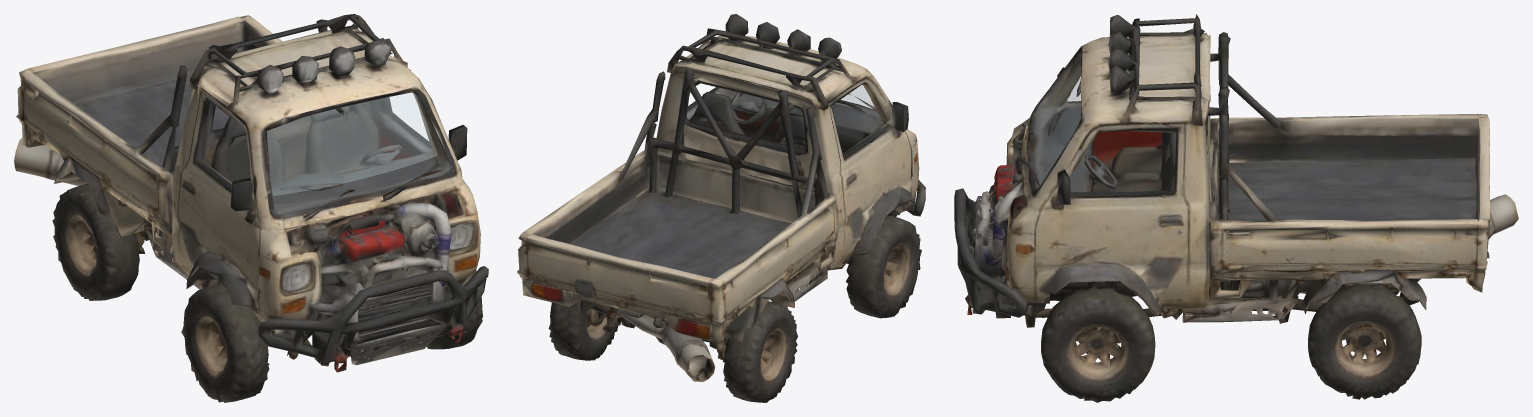
File: kei_truck_repaired.glb
3 views of the same model, side by side, from view 1: azimuth 30°, elevation 25°; view 2: azimuth 150°, elevation 25°; view 3: azimuth 270°, elevation 25° (orthographic). The views are drawn at different scales.
Parts seen in each view (by area): view 1: body, windshield, tailgate, wheel_fr, door_r, wheel_rr, door_l, wheel_fl; view 2: body, tailgate, door_r, wheel_fr, wheel_rr, wheel_rl, windshield; view 3: body, door_l, wheel_fl, wheel_rl, tailgate, windshield, door_r.
Part boxes in pixels (x1,y1,x2,y2): body: (14,14,488,372); windshield: (267,81,437,195); tailgate: (16,15,253,136); wheel_fr: (181,284,269,402); door_r: (178,100,273,282); wheel_rr: (52,183,139,300); door_l: (368,97,435,161); wheel_fl: (427,270,482,349); body: (522,14,925,381); tailgate: (517,231,731,332); door_r: (829,82,905,257); wheel_fr: (846,215,921,318); wheel_rr: (722,301,797,402); wheel_rl: (548,299,617,360); windshield: (842,85,875,109); body: (954,14,1518,342); door_l: (1067,132,1187,307); wheel_fl: (1041,285,1155,402); wheel_rl: (1308,284,1421,399); tailgate: (1465,114,1490,280); windshield: (1047,62,1092,167); door_r: (1067,93,1162,162).
Bounding box in the file's own units: 2.06 × 2.46 × 4.12.
Materials: 2 (1 with a texture image).
